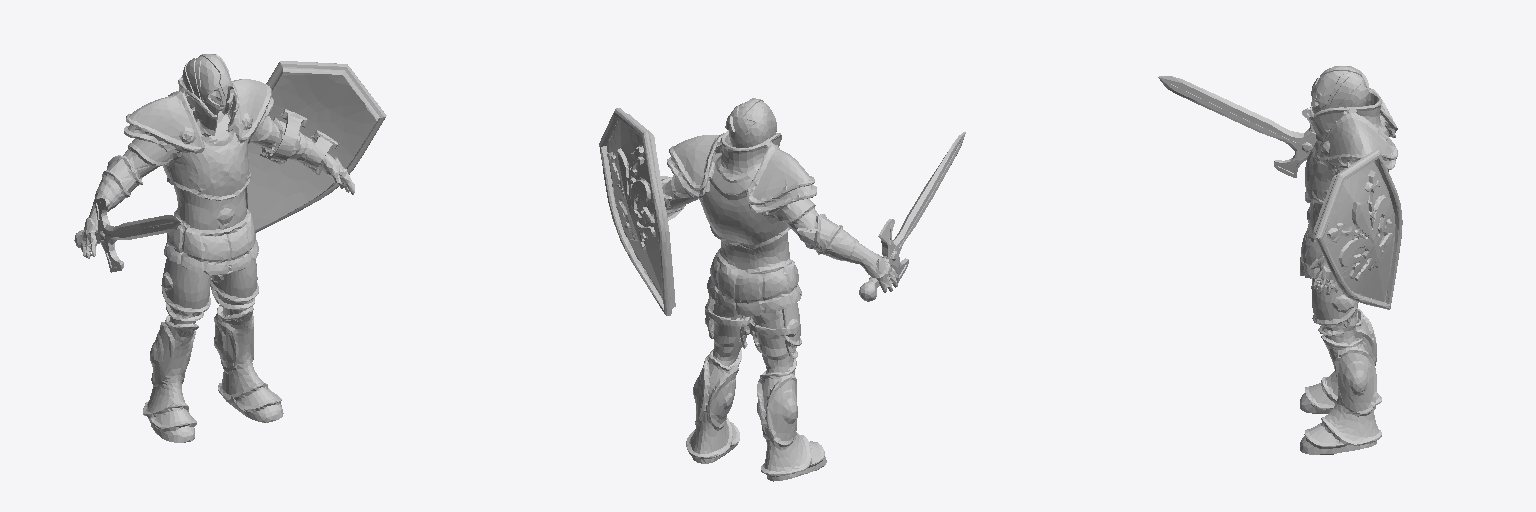
Rendered from knight_sword.obj.
3 views of the same model, side by side, from view 1: azimuth 30°, elevation 25°; view 2: azimuth 150°, elevation 25°; view 3: azimuth 270°, elevation 25° (orthographic).
Visible parts, largest first — view 1: Group61487, Group61487FBXASC046001; view 2: Group61487, Group61487FBXASC046001; view 3: Group61487, Group61487FBXASC046001.
Part boxes in pixels (x1,y1,x2,y2): Group61487: (81, 54, 386, 442); Group61487FBXASC046001: (74, 198, 180, 272); Group61487: (599, 98, 898, 481); Group61487FBXASC046001: (859, 132, 965, 301); Group61487: (1300, 66, 1402, 454); Group61487FBXASC046001: (1158, 76, 1316, 177).
Bounding box in the file's own units: 482 × 559 × 342.